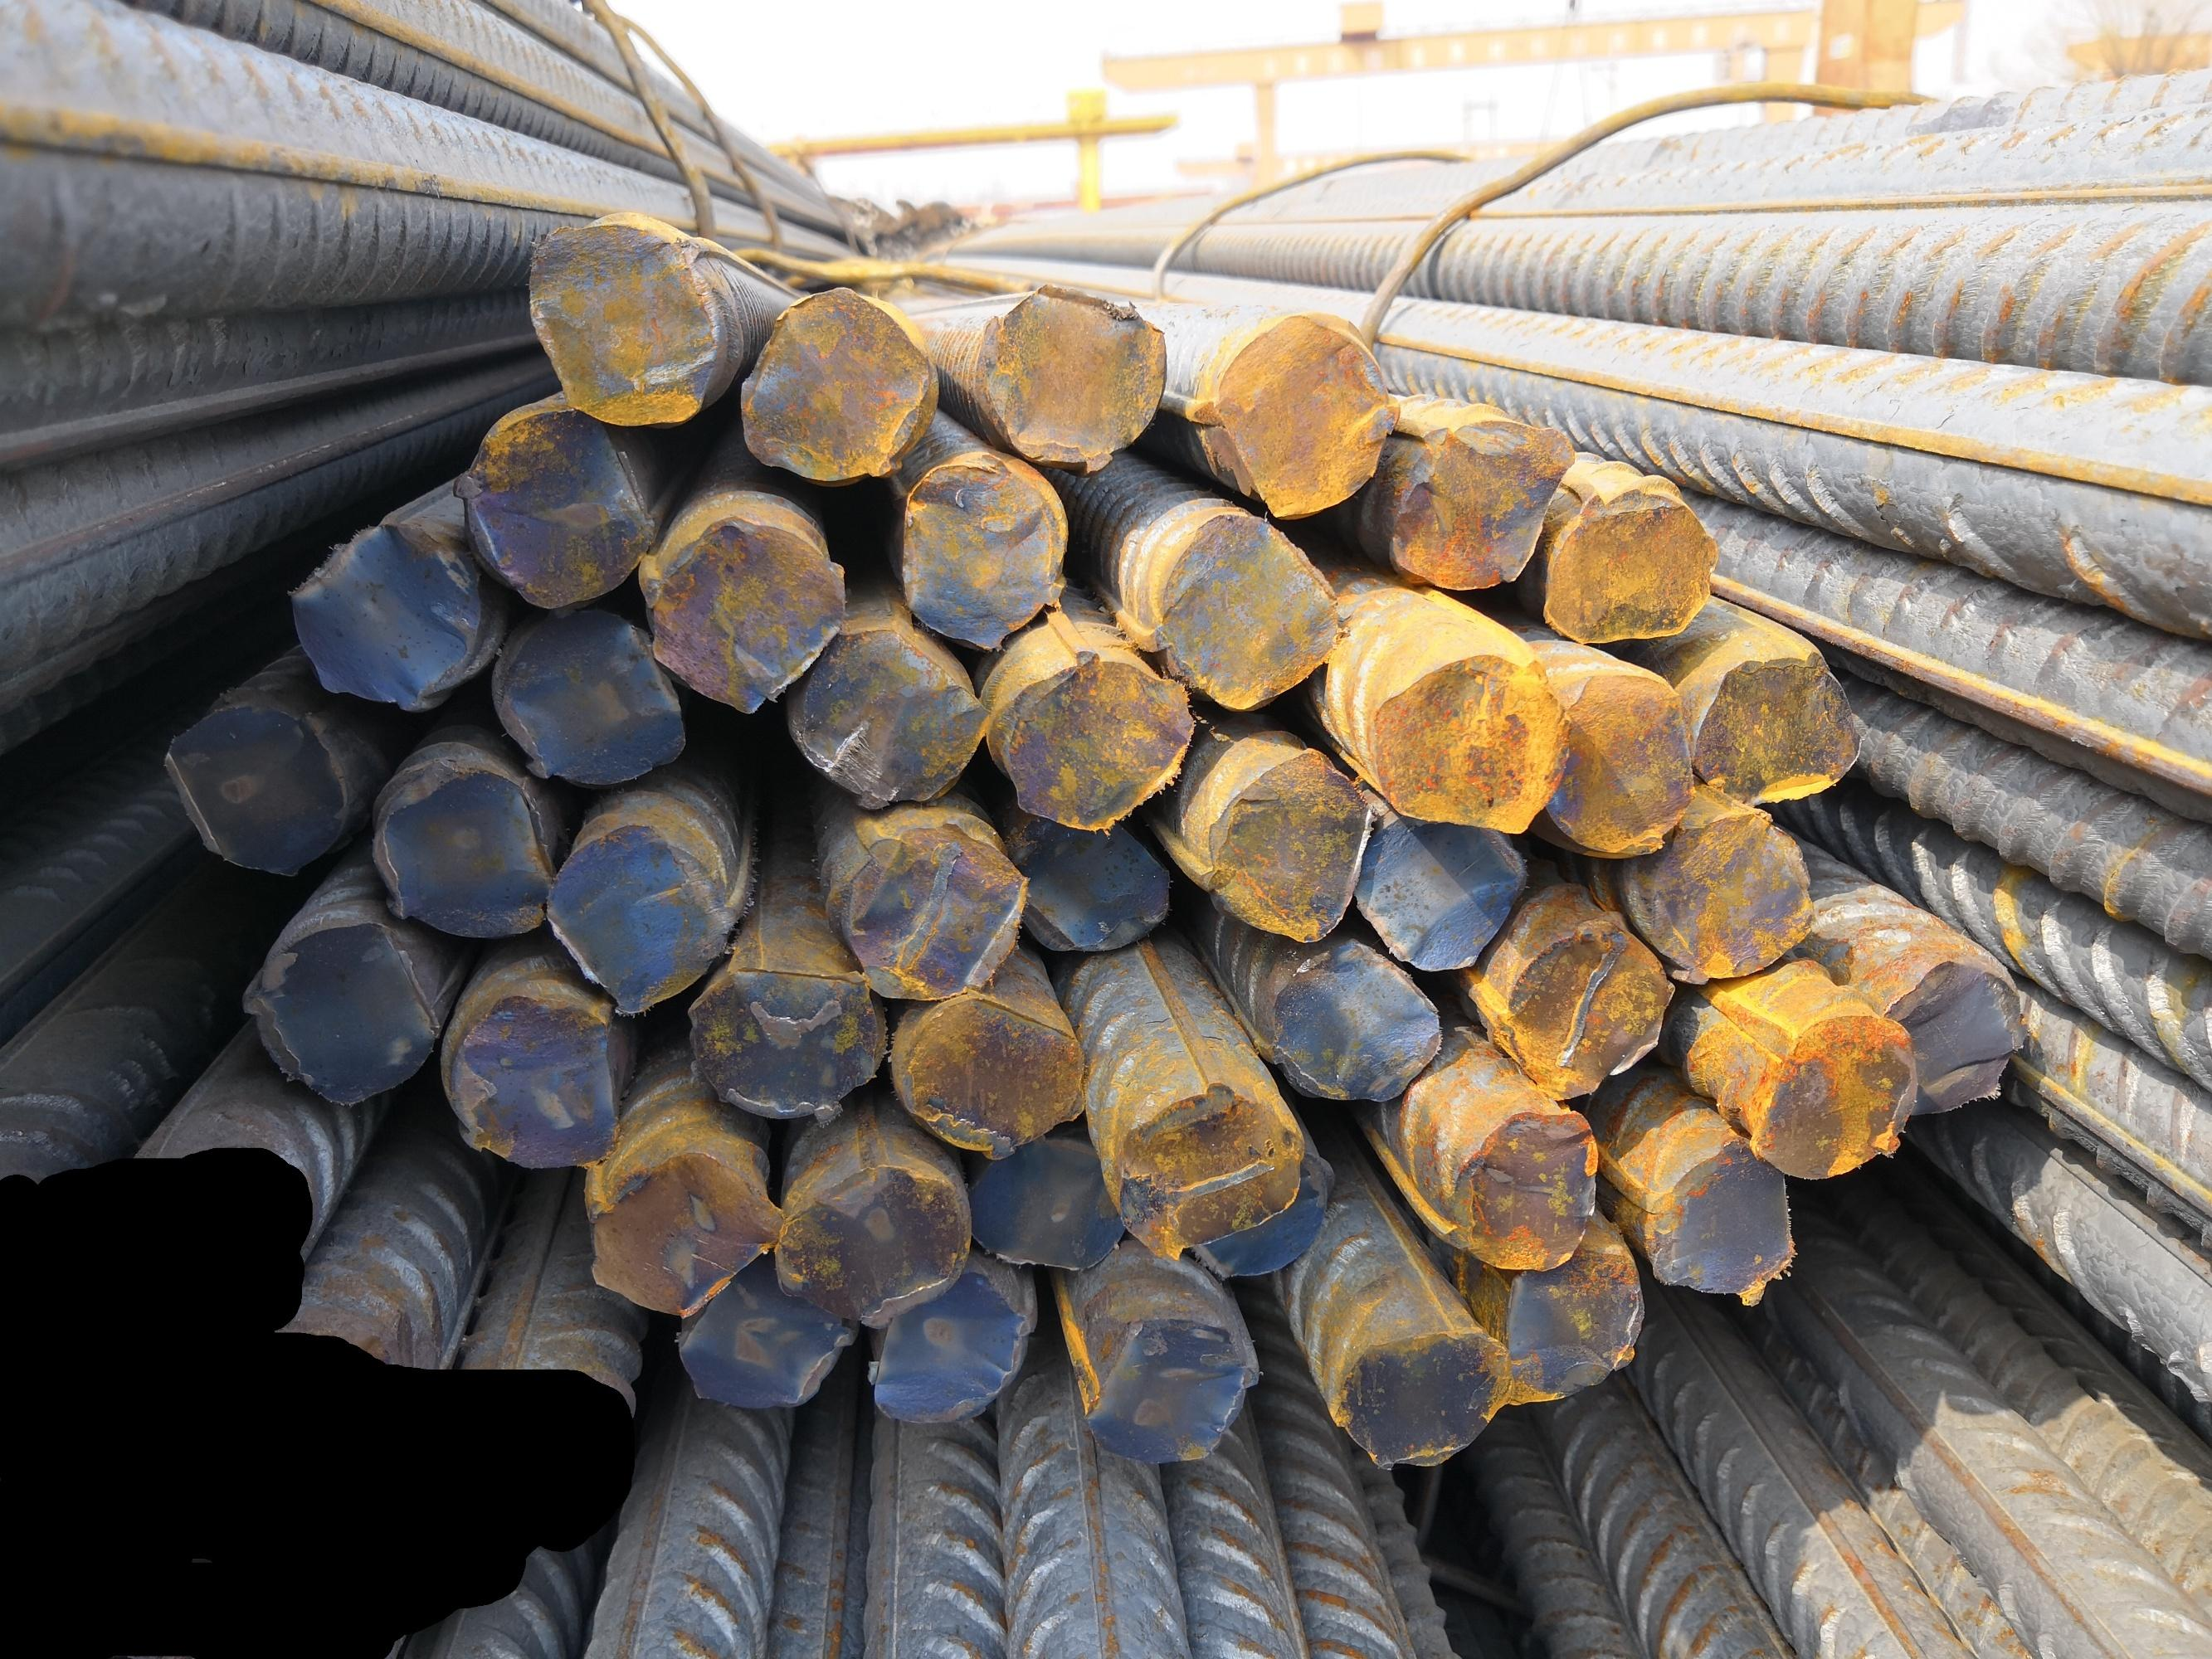bar: (1192, 314, 1401, 521), (450, 403, 657, 610), (636, 511, 847, 713), (526, 216, 725, 429), (1135, 509, 1340, 713), (784, 622, 994, 812), (739, 284, 934, 484), (544, 821, 739, 1016), (1368, 650, 1572, 835), (990, 648, 1196, 831), (241, 918, 438, 1107), (284, 519, 478, 709), (978, 281, 1168, 474), (1109, 1079, 1306, 1265), (488, 605, 690, 786), (831, 819, 1028, 1002), (1198, 744, 1375, 946), (887, 985, 1088, 1161), (1490, 917, 1677, 1105), (366, 753, 553, 939), (770, 1157, 971, 1330), (894, 455, 1067, 653), (586, 1148, 783, 1319), (1386, 416, 1576, 592), (160, 699, 345, 878), (443, 992, 622, 1171), (687, 964, 882, 1122), (675, 1248, 863, 1412), (1349, 809, 1530, 974), (1647, 807, 1815, 985), (1747, 1011, 1919, 1182), (1267, 938, 1443, 1103), (1686, 647, 1865, 807), (1541, 490, 1720, 648), (1081, 1312, 1262, 1466), (1543, 671, 1694, 854), (1327, 1324, 1513, 1471), (868, 1263, 1035, 1425), (1440, 1107, 1598, 1274), (1647, 1133, 1797, 1304), (1874, 955, 2031, 1117), (1499, 1236, 1647, 1406), (959, 1131, 1128, 1274), (1002, 817, 1175, 953), (1196, 1147, 1333, 1279)
